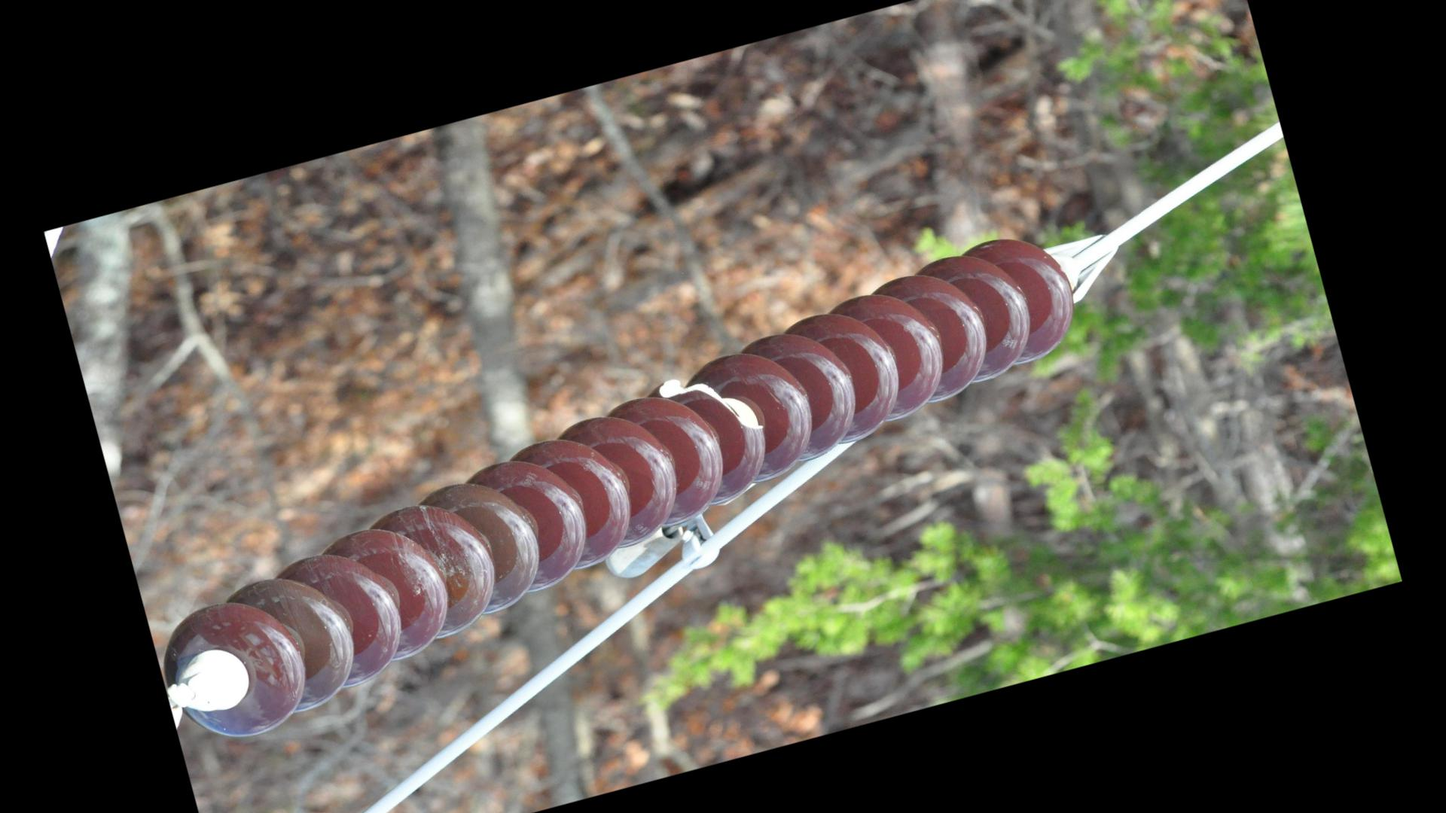damper: (588, 477, 777, 597)
